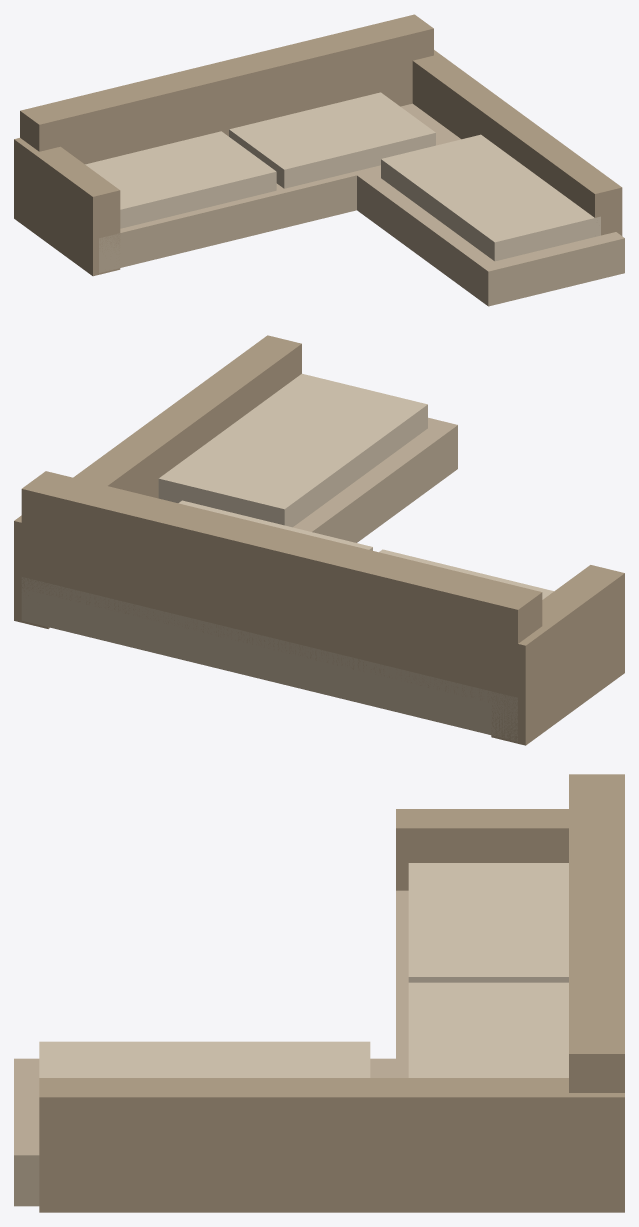
The model's file is sofa_corner.glb.
3 views of the same model, one above another, from view 1: azimuth 30°, elevation 25°; view 2: azimuth 150°, elevation 25°; view 3: azimuth 270°, elevation 25° (orthographic). The views are drawn at different scales.
Visible parts, largest first — view 1: sofa_corner; view 2: sofa_corner; view 3: sofa_corner.
Boxes of the visible parts, box(x1,y1,x2,y2) form: sofa_corner: box(14, 14, 624, 306); sofa_corner: box(14, 335, 624, 745); sofa_corner: box(14, 774, 624, 1212).
Bounding box in the file's own units: 2.68 × 0.67 × 2.4.
